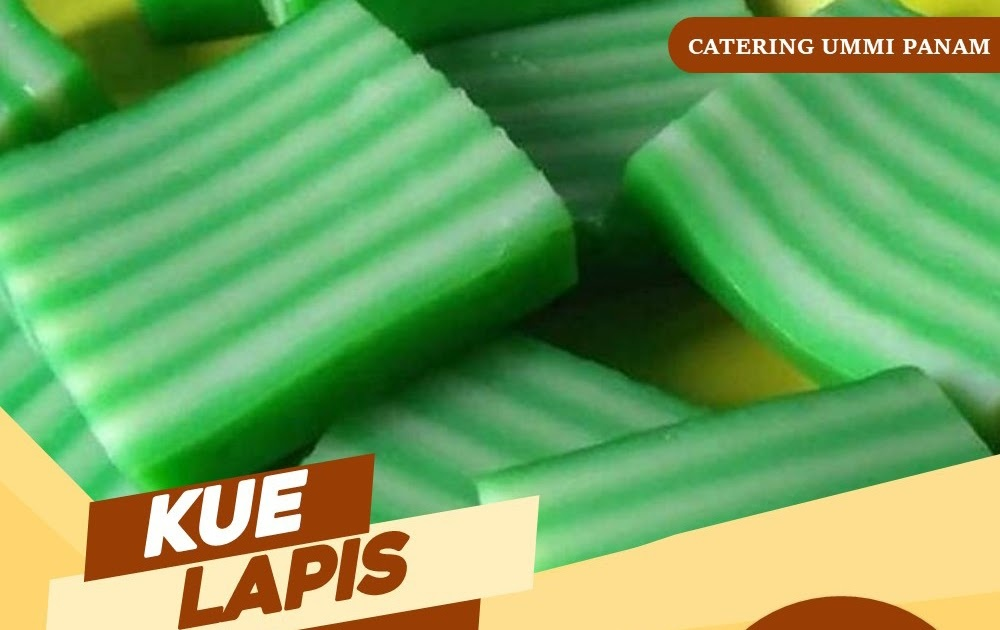kue_lapis_pelangi: (0, 0, 580, 499)
